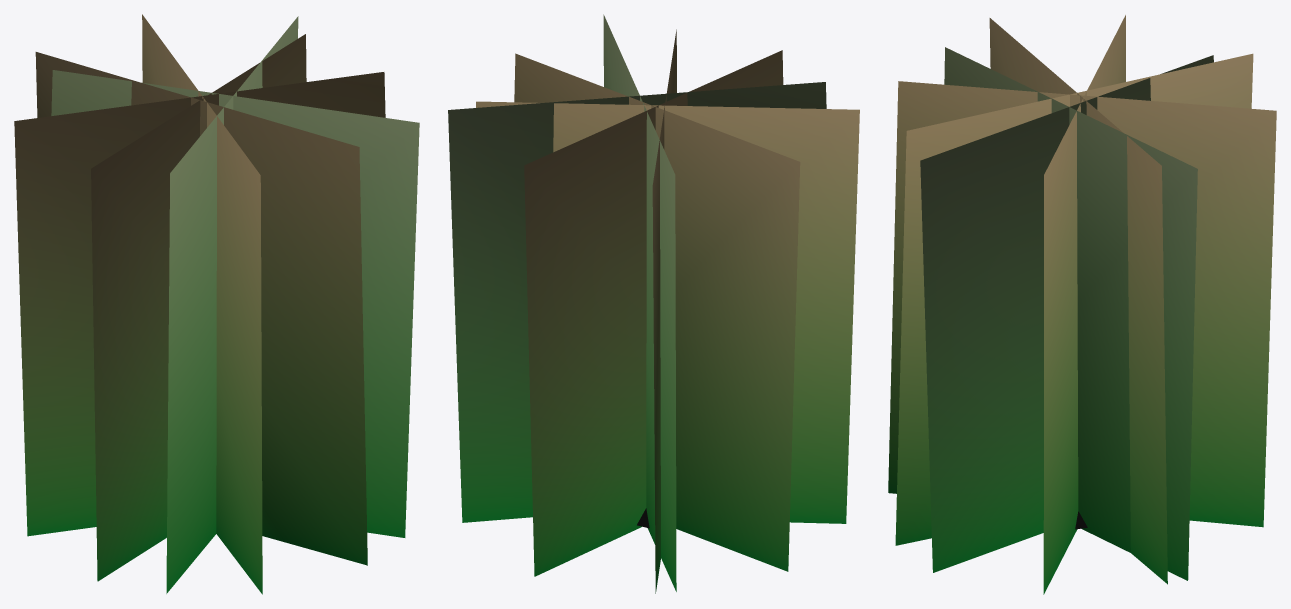
The model's file is Super_Palm_6.fbx.
3 views of the same model, side by side, from view 1: azimuth 30°, elevation 25°; view 2: azimuth 150°, elevation 25°; view 3: azimuth 270°, elevation 25° (orthographic).
Visible parts, largest first — view 1: Tree_6; view 2: Tree_6; view 3: Tree_6.
Boxes of the visible parts, box(x1,y1,x2,y2) form: Tree_6: box(14, 14, 419, 594); Tree_6: box(448, 14, 859, 593); Tree_6: box(888, 15, 1276, 594).
Bounding box in the file's own units: 504 × 597 × 502.
